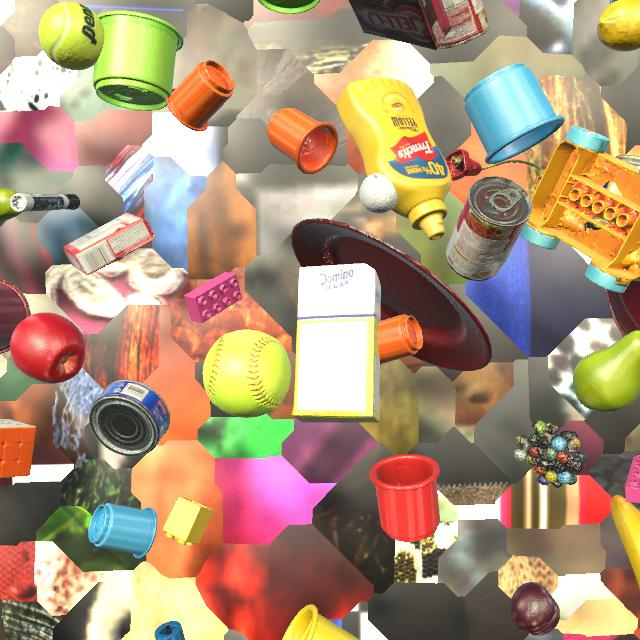ycb_004_sugar_box: (291, 263, 381, 423)
ycb_005_tomato_soup_can: (446, 176, 533, 281), (439, 0, 490, 49)
ycb_006_mustard_bottle: (336, 78, 452, 240)
ycb_007_tuna_fish_can: (89, 379, 170, 457)
ycb_008_pudding_box: (349, 0, 451, 50)
ycb_009_gelatin_box: (63, 212, 155, 276)
ycb_010_potted_meat_can: (584, 155, 640, 231)
ycb_011_banana: (610, 495, 640, 589)
ycb_013_apple: (10, 313, 86, 383)
ycb_014_lemon: (597, 0, 640, 52)
ycb_016_pear: (573, 330, 640, 413), (0, 187, 22, 227)
ycb_018_plum: (510, 582, 560, 636)
